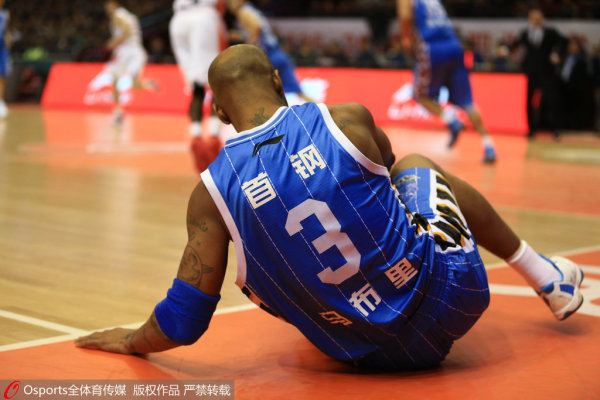10+: (2, 3, 600, 167)
down: (71, 41, 594, 361)
